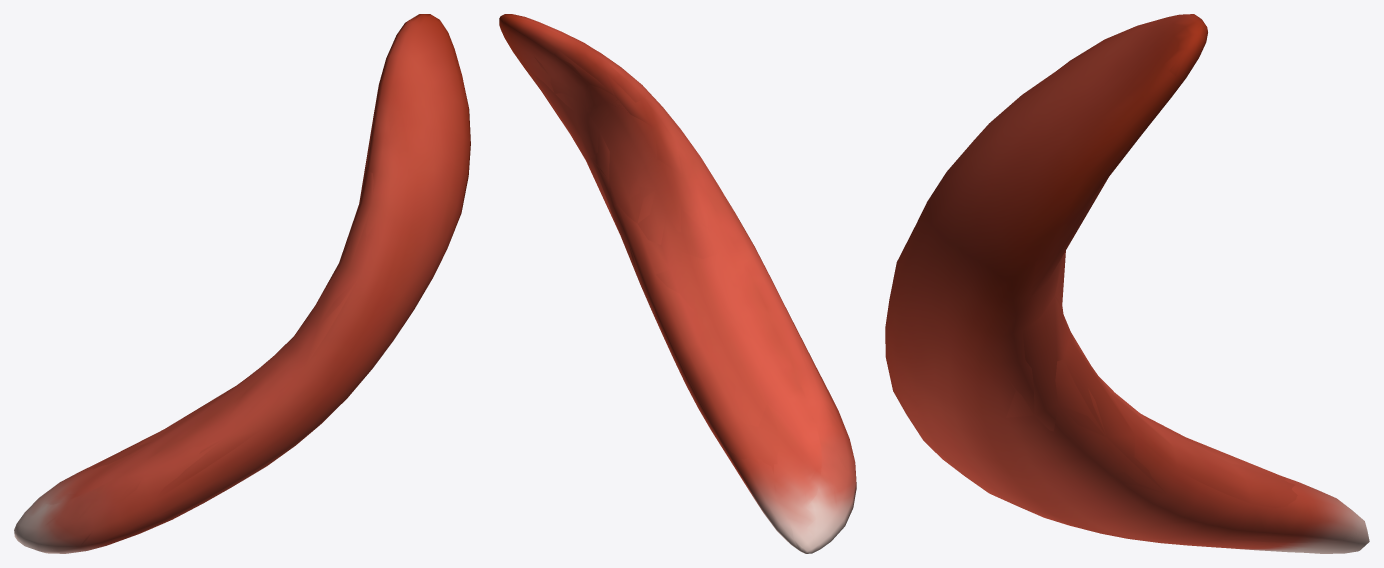
File: L Subclavius.fbx
3 views of the same model, side by side, from view 1: azimuth 30°, elevation 25°; view 2: azimuth 150°, elevation 25°; view 3: azimuth 270°, elevation 25° (orthographic). The views are drawn at different scales.
Visible parts, largest first — view 1: L Subclavius, L Subclavius low; view 2: L Subclavius, L Subclavius low; view 3: L Subclavius, L Subclavius low.
Boxes of the visible parts, x1,y1,x2,y2 form: L Subclavius: (14,14,470,553); L Subclavius low: (15,14,468,550); L Subclavius: (499,14,856,553); L Subclavius low: (503,15,856,550); L Subclavius: (885,14,1369,553); L Subclavius low: (894,14,1367,553).
Bounding box in the file's own units: 7.98 × 9.03 × 4.64.
